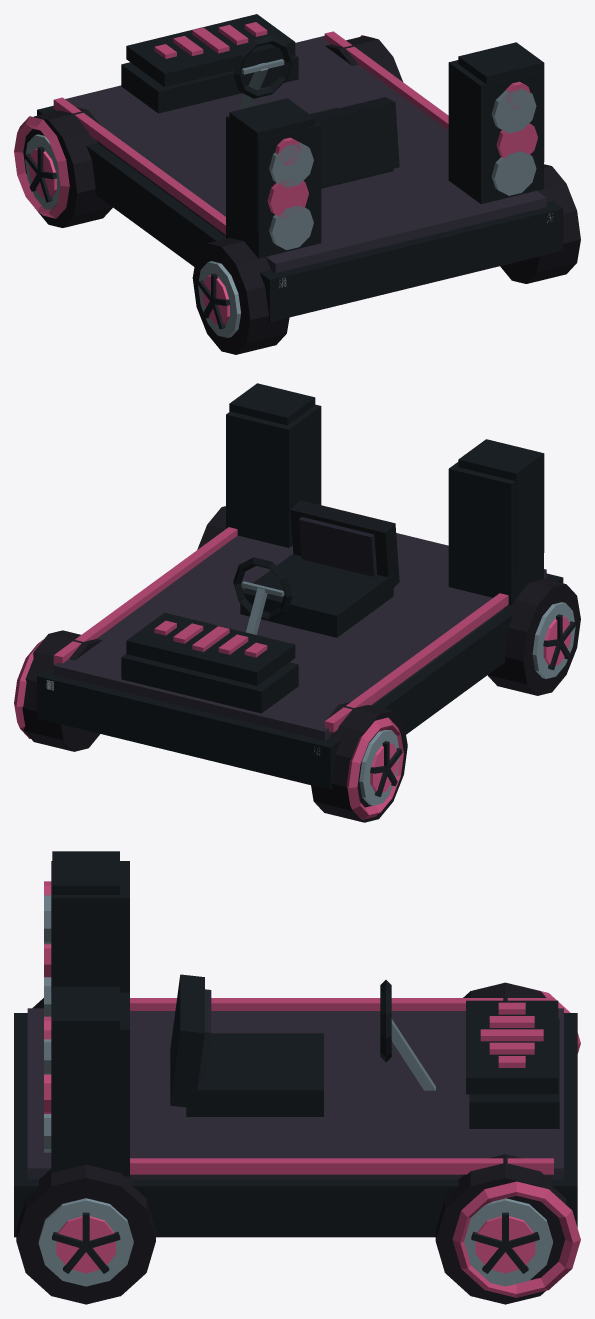
The model's file is kart.glb.
3 renders of one model, top to bottom at view 1: azimuth 30°, elevation 25°; view 2: azimuth 150°, elevation 25°; view 3: azimuth 270°, elevation 25°, orthographic. The views are drawn at different scales.
Parts seen in each view (by area): view 1: identity-stage-stage-platform-and-pa-towers, identity-stage-motif-speakers, identity-stage-driver-cockpit, wheel-rear-left, identity-stage-motif-equalizer, wheel-front-left, wheel-rear-right, identity-stage-motif-neon, wheel-front-right; view 2: identity-stage-stage-platform-and-pa-towers, identity-stage-driver-cockpit, wheel-rear-left, identity-stage-motif-speakers, identity-stage-motif-equalizer, wheel-front-left, wheel-front-right, identity-stage-motif-neon; view 3: identity-stage-stage-platform-and-pa-towers, identity-stage-driver-cockpit, wheel-rear-right, identity-stage-motif-speakers, wheel-front-right, identity-stage-motif-equalizer, identity-stage-motif-neon, wheel-front-left.
Part boxes in pixels (x1,y1,x2,y2): identity-stage-stage-platform-and-pa-towers: (37, 31, 563, 321); identity-stage-motif-speakers: (229, 42, 544, 232); identity-stage-driver-cockpit: (233, 35, 399, 188); wheel-rear-left: (192, 237, 289, 354); identity-stage-motif-equalizer: (126, 14, 295, 87); wheel-front-left: (23, 107, 112, 227); wheel-rear-right: (500, 164, 580, 283); identity-stage-motif-neon: (14, 35, 553, 287); wheel-front-right: (325, 36, 402, 81); identity-stage-stage-platform-and-pa-towers: (37, 404, 563, 789); identity-stage-driver-cockpit: (233, 500, 399, 637); wheel-rear-left: (487, 579, 580, 695); identity-stage-motif-speakers: (229, 383, 544, 573); identity-stage-motif-equalizer: (126, 612, 295, 685); wheel-front-left: (311, 701, 407, 822); wheel-front-right: (22, 630, 101, 751); identity-stage-motif-neon: (14, 639, 403, 819); identity-stage-stage-platform-and-pa-towers: (14, 861, 577, 1237); identity-stage-driver-cockpit: (170, 974, 435, 1116); wheel-rear-right: (16, 1164, 155, 1304); identity-stage-motif-speakers: (44, 851, 119, 1141); wheel-front-right: (435, 1154, 568, 1304); identity-stage-motif-equalizer: (466, 1000, 558, 1094); identity-stage-motif-neon: (452, 985, 580, 1297); wheel-front-left: (463, 982, 546, 1000).
Size of the model in its own units: 2.16 by 1.33 by 2.51.
